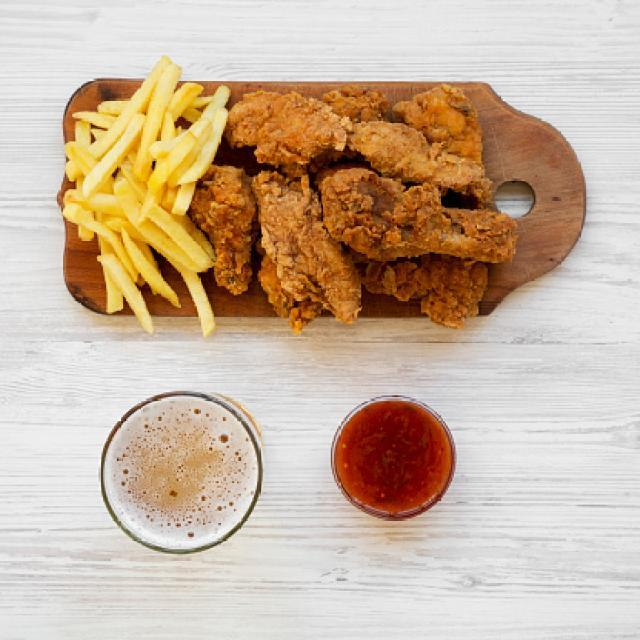ga ran va khoai tay chien: (63, 51, 524, 340)
khoai tay chien: (64, 51, 235, 337)
thit ga: (314, 164, 527, 264), (257, 170, 366, 324), (359, 257, 504, 328), (356, 121, 487, 196), (227, 90, 345, 173), (196, 165, 260, 298), (254, 257, 329, 336), (386, 84, 486, 138), (313, 82, 392, 125)
